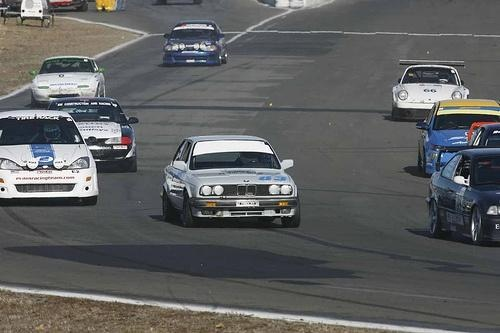car: (160, 134, 304, 231), (1, 110, 100, 208), (427, 148, 500, 248), (46, 96, 141, 172), (420, 99, 500, 178), (391, 57, 473, 124), (29, 56, 110, 108), (162, 19, 233, 69)
